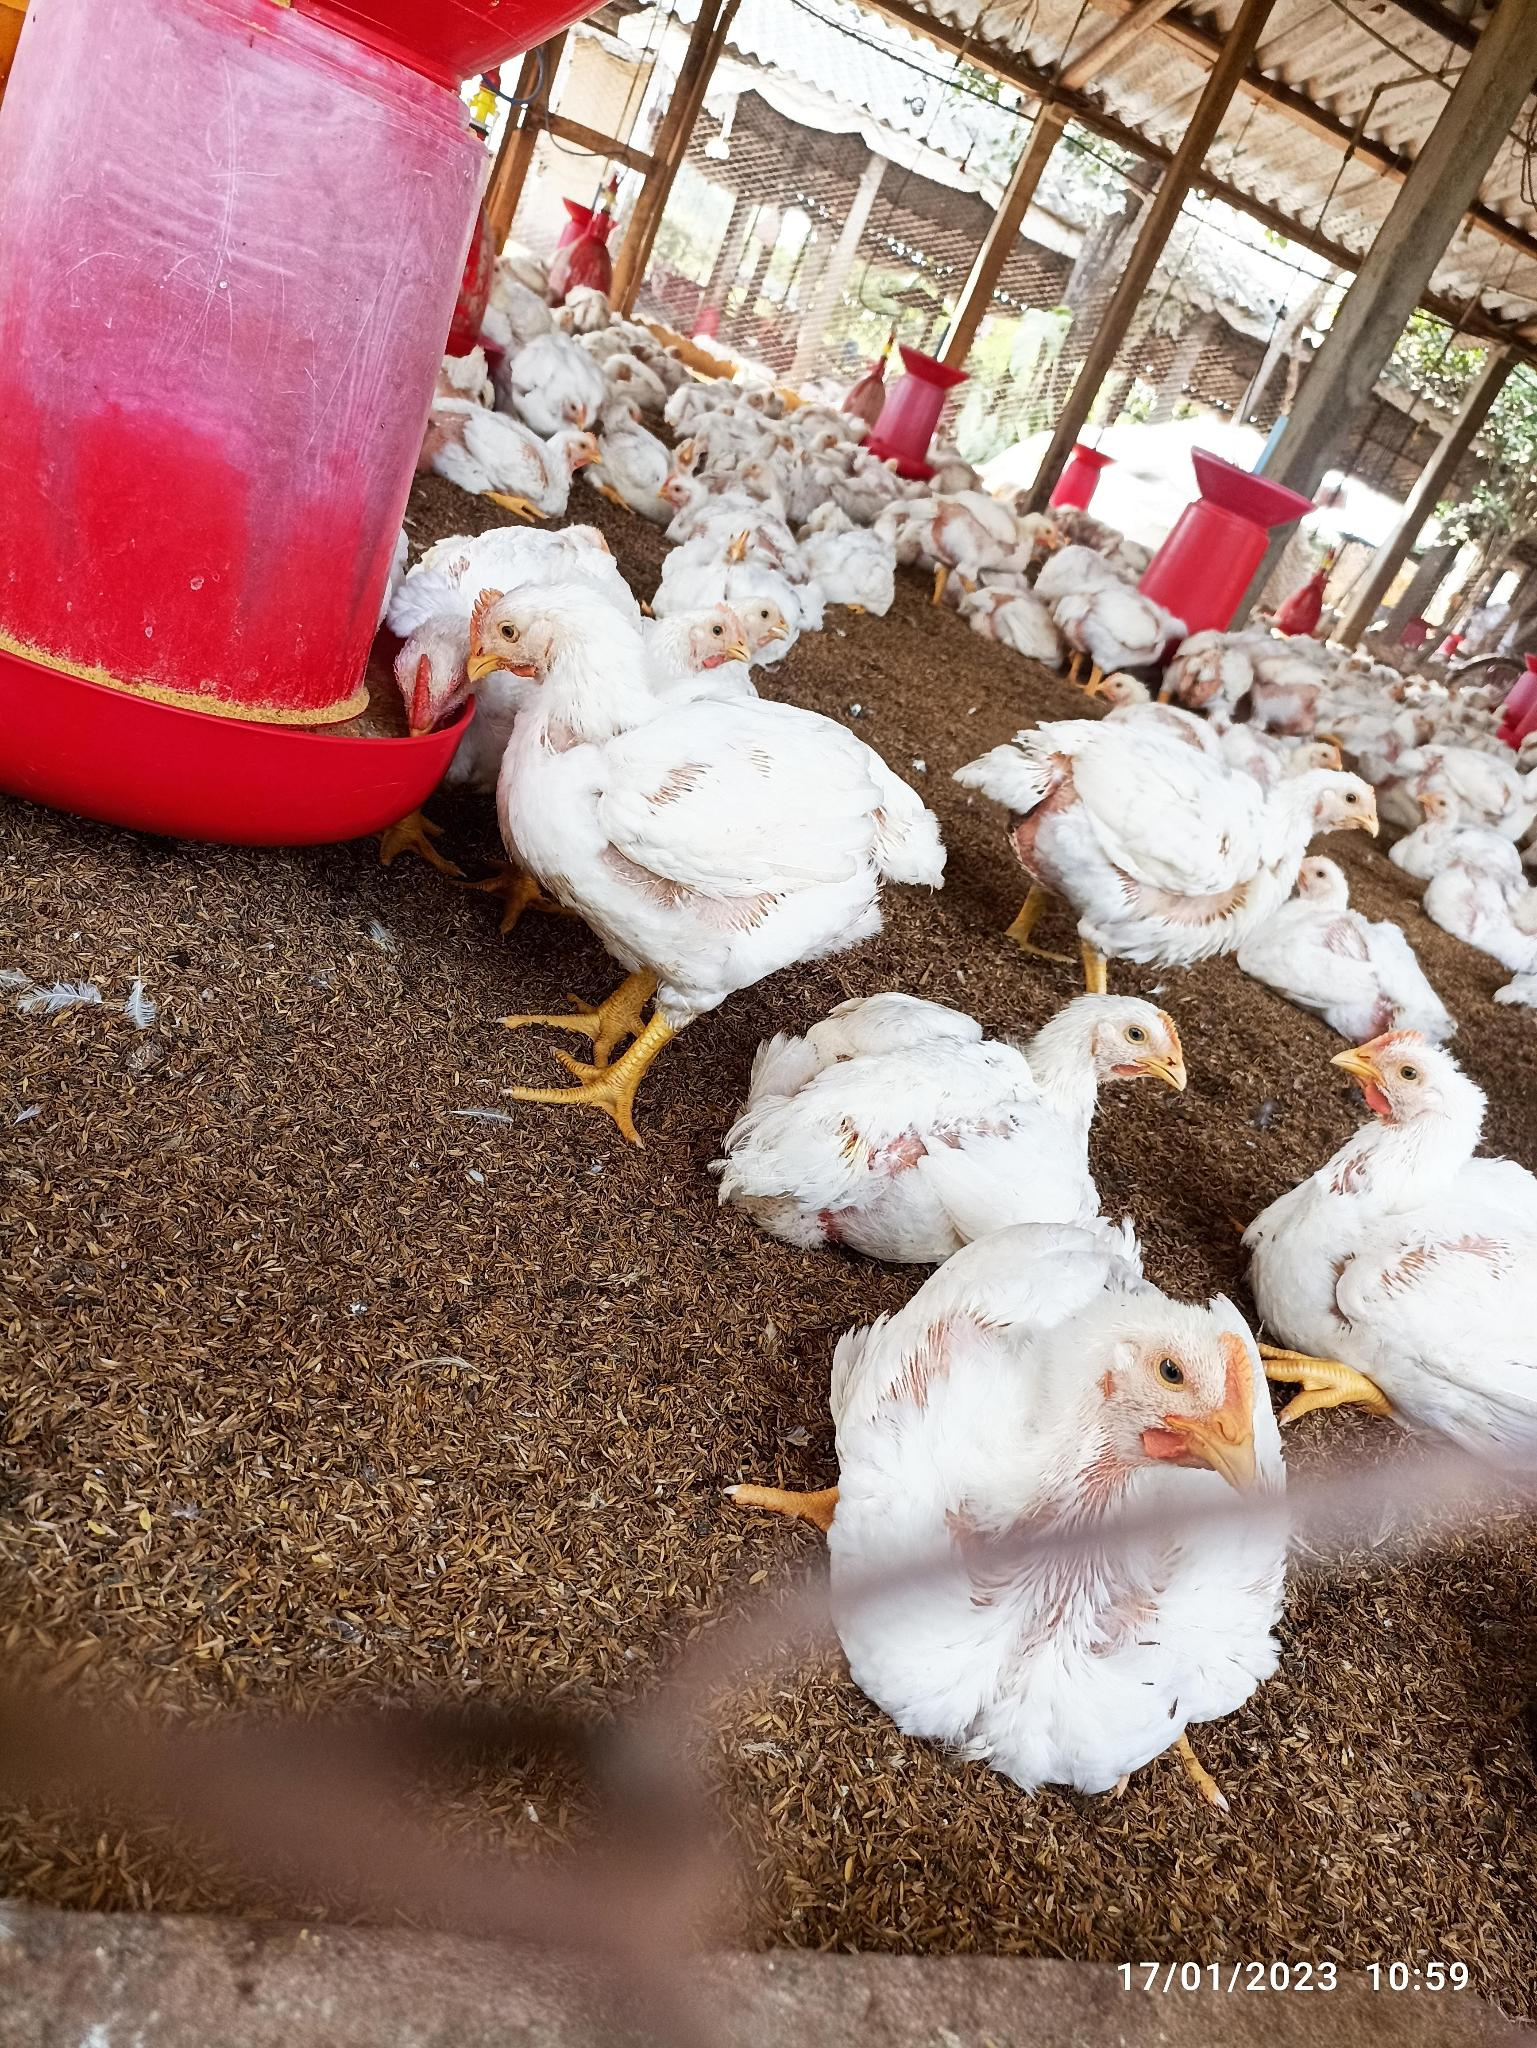Pollos: (843, 1222, 1293, 1749), (727, 988, 1187, 1231), (1301, 1031, 1534, 1356), (1046, 721, 1384, 944), (463, 578, 652, 826), (644, 592, 764, 825), (932, 491, 1066, 578), (480, 423, 597, 521), (1400, 791, 1529, 880), (676, 521, 799, 597), (513, 328, 602, 428), (807, 520, 894, 616), (647, 471, 722, 536)
